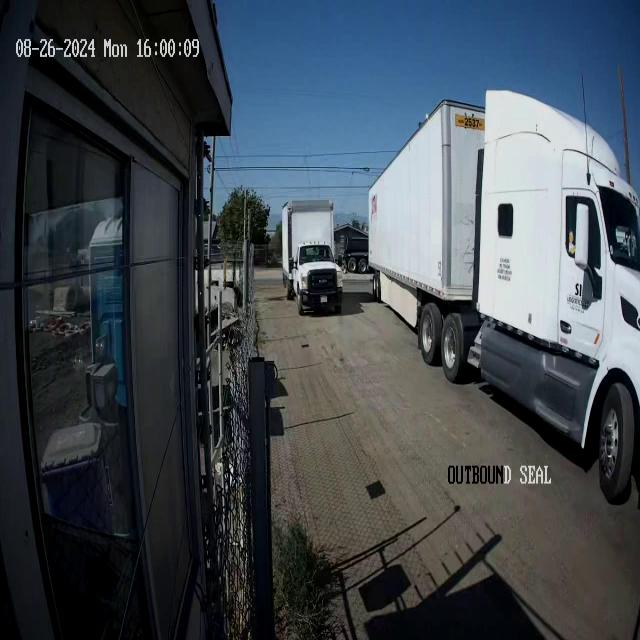CONTAINER: (370, 104, 481, 307)
